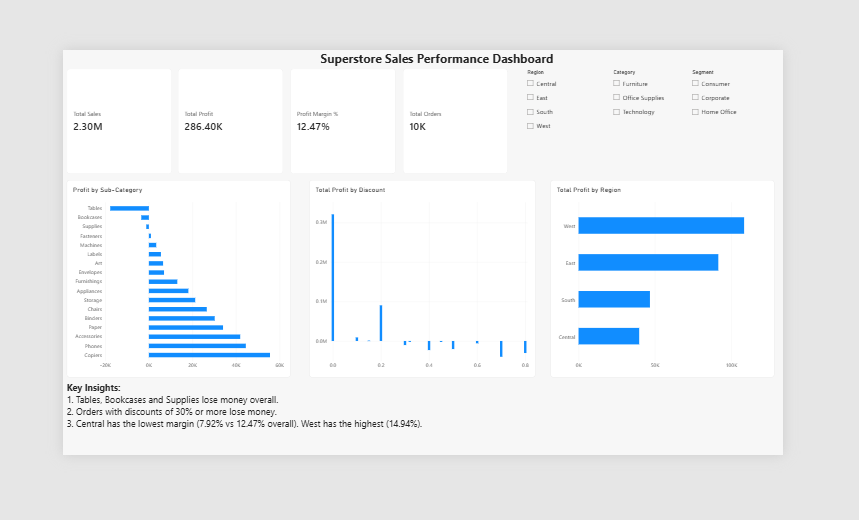

What the dashboard file says about the page in this screenshot:
{"tool":"powerbi","page":{"name":"Page 1","canvas":[1920,1080],"ordinal":0},"visuals":[{"type":"cardVisual","fields":{"Data":["SampleSuperstore.Total Sales"]},"box":[10,51.4,280,280],"z":0},{"type":"cardVisual","fields":{"Data":["SampleSuperstore.Total Profit"]},"box":[305.7,51.4,280,280],"z":1000},{"type":"cardVisual","fields":{"Data":["SampleSuperstore.Profit Margin %"]},"box":[607.1,51.4,280,280],"z":2000},{"type":"cardVisual","fields":{"Data":["SampleSuperstore.Total Orders"]},"box":[905.7,51.4,279.9,279.9],"z":3000},{"type":"barChart","title":"Profit by Sub-Category","fields":{"Category":["SampleSuperstore.Sub-Category"],"Y":["SampleSuperstore.Total Profit"]},"box":[10,346.7,596.7,526.7],"z":4000},{"type":"clusteredColumnChart","title":"Total Profit by Discount","fields":{"Category":["SampleSuperstore.Discount"],"Y":["SampleSuperstore.Total Profit"]},"box":[656.7,346.7,603.3,526.7],"z":5000},{"type":"slicer","fields":{"Values":["SampleSuperstore.Region"]},"box":[1228.6,51.4,232,280],"z":6000},{"type":"slicer","fields":{"Values":["SampleSuperstore.Category"]},"box":[1460,51.4,208,280],"z":7000},{"type":"slicer","fields":{"Values":["SampleSuperstore.Segment"]},"box":[1668.6,51.4,196,280],"z":8000},{"type":"barChart","title":"Total Profit by Region","fields":{"Category":["SampleSuperstore.Region"],"Y":["SampleSuperstore.Total Profit"]},"box":[1300,346.7,596.7,526.7],"z":9000},{"type":"textbox","box":[686.7,0,876.7,50],"z":10000},{"type":"textbox","box":[10,883.3,1910,196.7],"z":10001}]}

Visuals, with their boxes on the page's 1920x1080 design canvas (x1, y1, x2, y2). These are canvas units, not pixel positions in the 859x520 screenshot, which may show the page scaled, cropped or inside an application window:
cardVisual - SampleSuperstore.Total Sales: BBox(10, 51, 290, 331)
cardVisual - SampleSuperstore.Total Profit: BBox(306, 51, 586, 331)
cardVisual - SampleSuperstore.Profit Margin %: BBox(607, 51, 887, 331)
cardVisual - SampleSuperstore.Total Orders: BBox(906, 51, 1186, 331)
"Profit by Sub-Category" barChart: BBox(10, 347, 607, 873)
"Total Profit by Discount" clusteredColumnChart: BBox(657, 347, 1260, 873)
slicer - SampleSuperstore.Region: BBox(1229, 51, 1461, 331)
slicer - SampleSuperstore.Category: BBox(1460, 51, 1668, 331)
slicer - SampleSuperstore.Segment: BBox(1669, 51, 1865, 331)
"Total Profit by Region" barChart: BBox(1300, 347, 1897, 873)
textbox: BBox(687, 0, 1563, 50)
textbox: BBox(10, 883, 1920, 1080)
